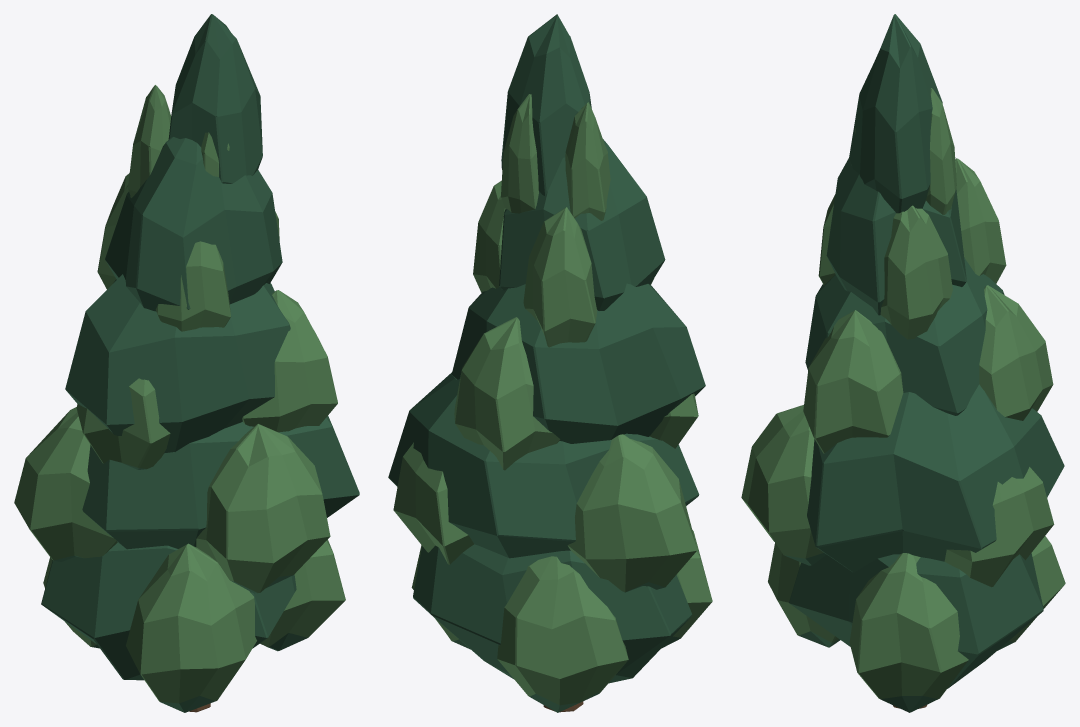
The model's file is b08_eastern_red_cedar.glb.
3 views of the same model, side by side, from view 1: azimuth 30°, elevation 25°; view 2: azimuth 150°, elevation 25°; view 3: azimuth 270°, elevation 25° (orthographic).
Parts seen in each view (by area): view 1: b08_eastern_red_cedar; view 2: b08_eastern_red_cedar; view 3: b08_eastern_red_cedar.
Boxes of the visible parts, left/top/right/bottom form: b08_eastern_red_cedar: left=14, top=14, right=359, bottom=712; b08_eastern_red_cedar: left=388, top=14, right=712, bottom=712; b08_eastern_red_cedar: left=741, top=14, right=1065, bottom=712.
Bounding box in the file's own units: 2.08 × 4.73 × 2.
